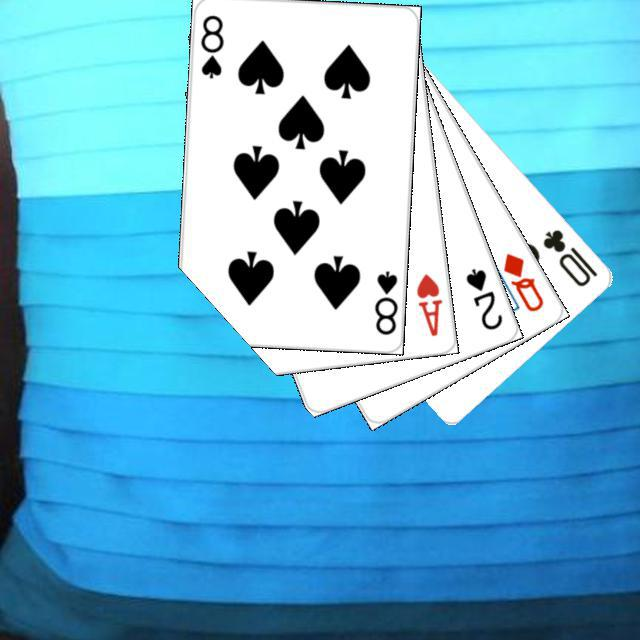10c: (538, 224, 599, 289)
2s: (460, 263, 504, 332)
8s: (195, 10, 225, 81), (369, 266, 399, 336)
Ah: (411, 268, 444, 338)
Qd: (498, 248, 546, 314)
